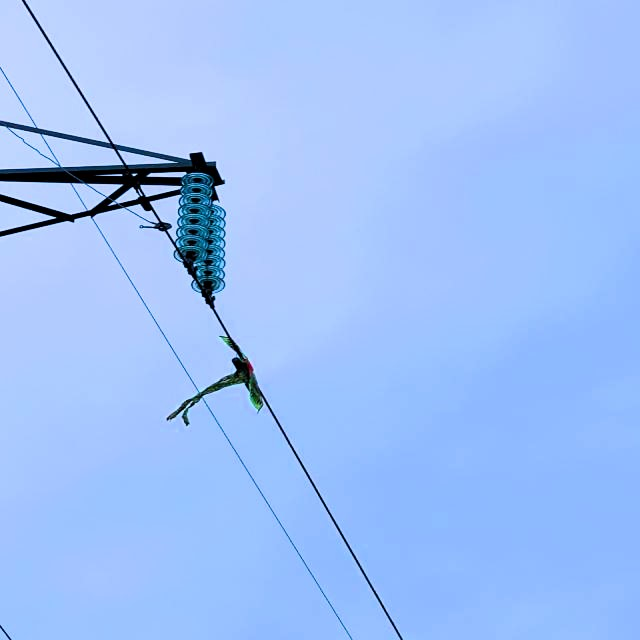wire foreign body: (152, 324, 283, 434)
